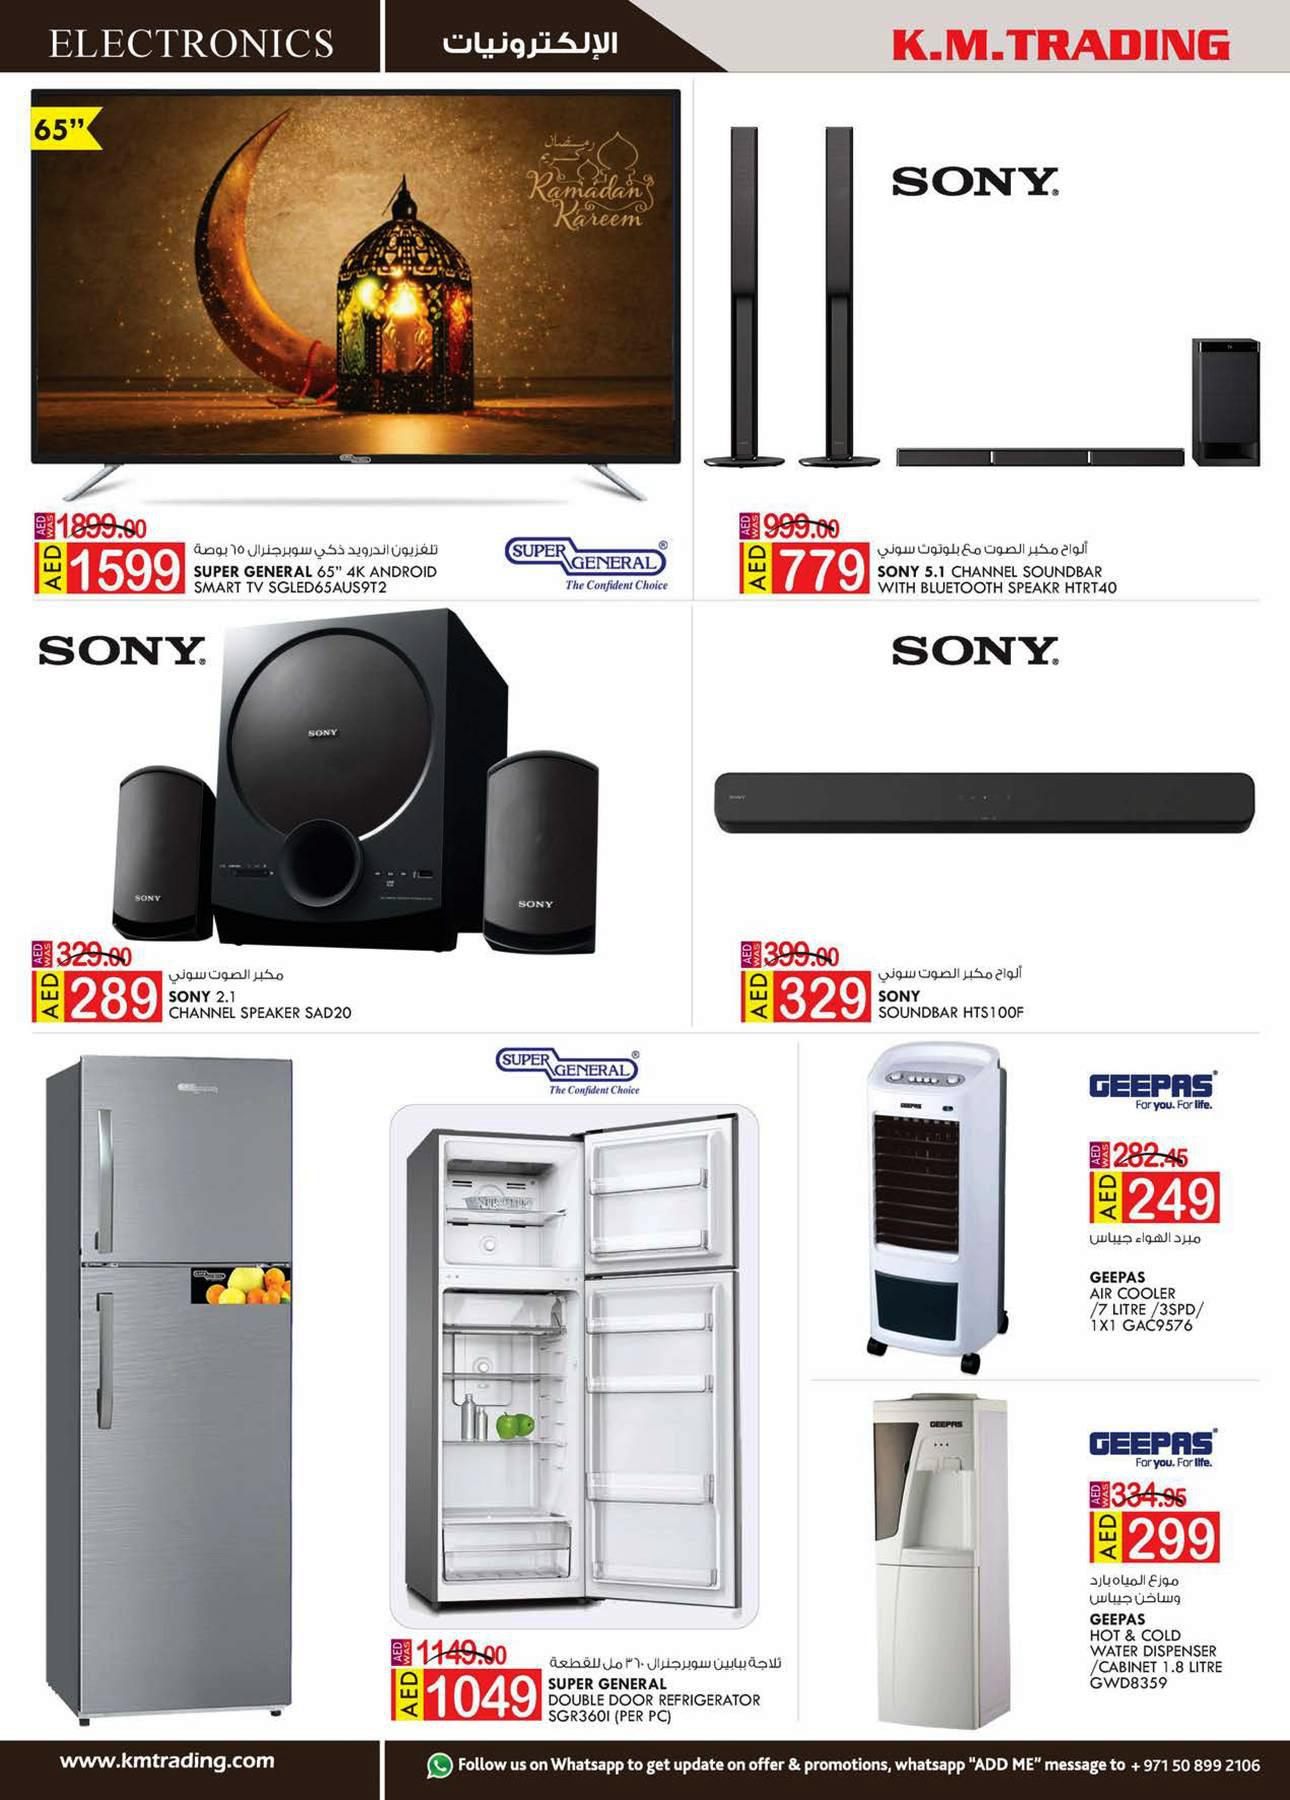text: (1082, 1567, 1238, 1700), (543, 1647, 799, 1727), (1076, 1221, 1243, 1344), (186, 529, 445, 606), (871, 534, 1131, 608), (162, 961, 362, 1033), (871, 956, 1035, 1027)
